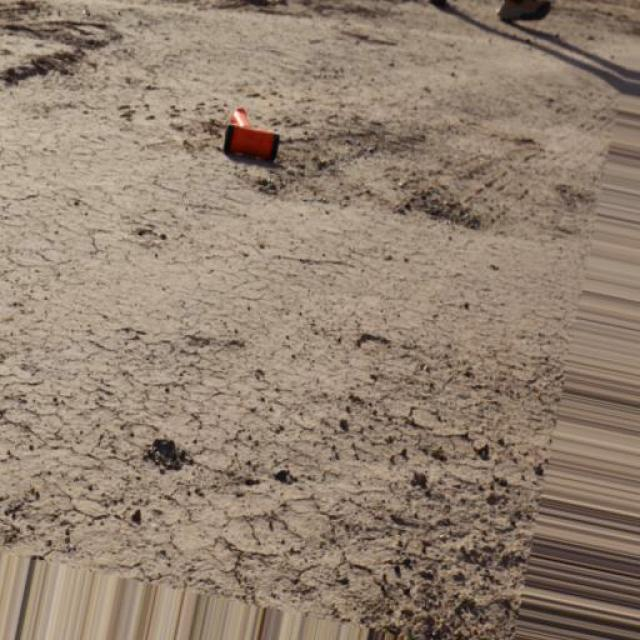mallet: (224, 105, 281, 163)
